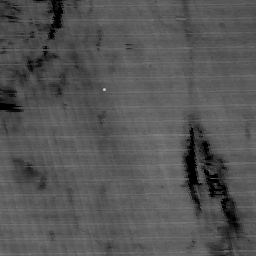Target: (101, 86, 108, 92)
